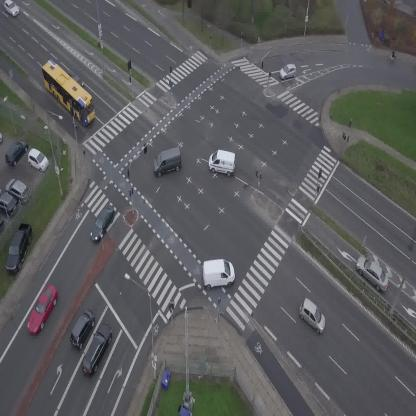bicycle: (385, 48, 398, 63)
bus: (33, 58, 104, 127)
car: (77, 321, 117, 378), (22, 282, 63, 337), (351, 251, 395, 295), (292, 296, 333, 336), (65, 307, 100, 352), (86, 204, 119, 243), (65, 67, 87, 89), (277, 63, 298, 81)
lorry: (200, 257, 237, 291), (150, 147, 186, 178), (206, 148, 238, 177)
